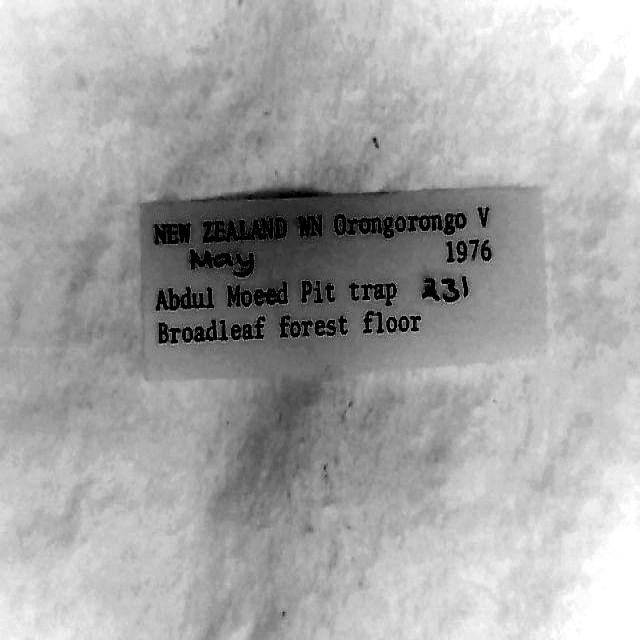mixed_label: (141, 188, 545, 378)
